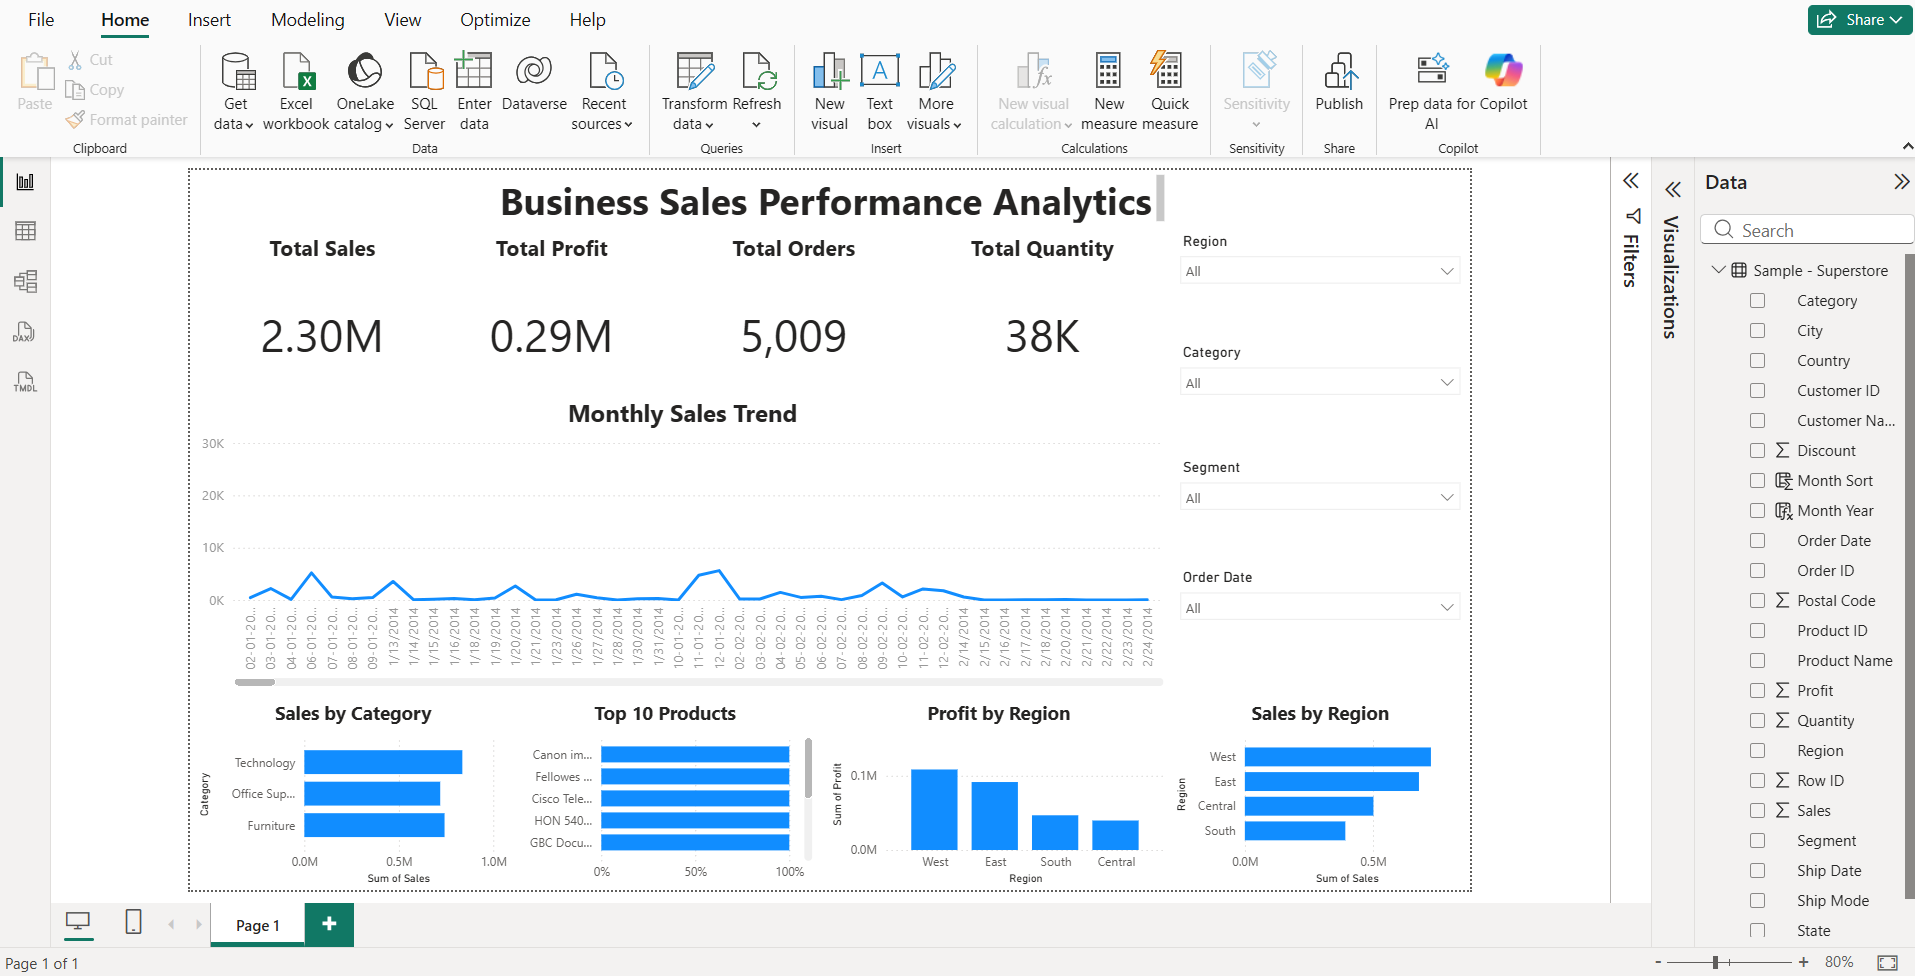

What the dashboard file says about the page in this screenshot:
{"tool":"powerbi","page":{"name":"Page 1","canvas":[1280,720],"ordinal":0},"visuals":[{"type":"card","title":"Total Sales","fields":{"Values":["Sum(Sample - Superstore.Sales)"]},"box":[3.8,62.5,257.5,172.5],"z":0},{"type":"card","title":"Total Orders","fields":{"Values":["Count(Sample - Superstore.Order ID)"]},"box":[475,62.5,257.5,172.5],"z":1000},{"type":"card","title":"Total Quantity","fields":{"Values":["Sum(Sample - Superstore.Quantity)"]},"box":[723.8,62.5,257.5,172.5],"z":2000},{"type":"card","title":"Total Profit","fields":{"Values":["Sum(Sample - Superstore.Profit)"]},"box":[232.5,62.5,258.8,172.5],"z":3000},{"type":"textbox","box":[300.5,0,679.2,57.6],"z":4000},{"type":"lineChart","title":"Monthly Sales Trend","fields":{"Category":["Sample - Superstore.Month Year"],"Y":["Sum(Sample - Superstore.Sales)"]},"box":[6.2,226.2,972.5,295],"z":5000},{"type":"clusteredBarChart","title":"Sales by Category","fields":{"Category":["Sample - Superstore.Category"],"Y":["Sum(Sample - Superstore.Sales)"]},"box":[3.8,530,318.8,190],"z":6000},{"type":"hundredPercentStackedBarChart","title":"Top 10 Products","fields":{"Category":["Sample - Superstore.Product Name"],"Y":["Sum(Sample - Superstore.Sales)"]},"box":[322.5,530,305,190],"z":7000},{"type":"clusteredColumnChart","title":"Profit by Region","fields":{"Category":["Sample - Superstore.Region"],"Y":["Sum(Sample - Superstore.Profit)"]},"box":[637.5,530,342.5,190],"z":8000},{"type":"slicer","fields":{"Values":["Sample - Superstore.Category"]},"box":[980,168.8,300,81.2],"z":9000},{"type":"slicer","fields":{"Values":["Sample - Superstore.Segment"]},"box":[980,283.8,300,110],"z":10000},{"type":"slicer","fields":{"Values":["Sample - Superstore.Order Date"]},"box":[980,393.8,300,110],"z":11000},{"type":"clusteredBarChart","title":"Sales by Region","fields":{"Category":["Sample - Superstore.Region"],"Y":["Sum(Sample - Superstore.Sales)"]},"box":[981,530,298,190],"z":12000},{"type":"slicer","fields":{"Values":["Sample - Superstore.Region"]},"box":[980,57.5,300,81.2],"z":13000}]}

Visuals, with their boxes on the page's 1280x720 design canvas (x1, y1, x2, y2). These are canvas units, not pixel positions in the 1915x976 screenshot, which may show the page scaled, cropped or inside an application window:
"Total Sales" card: 4, 62, 261, 235
"Total Orders" card: 475, 62, 732, 235
"Total Quantity" card: 724, 62, 981, 235
"Total Profit" card: 232, 62, 491, 235
textbox: 300, 0, 980, 58
"Monthly Sales Trend" lineChart: 6, 226, 979, 521
"Sales by Category" clusteredBarChart: 4, 530, 323, 720
"Top 10 Products" hundredPercentStackedBarChart: 322, 530, 628, 720
"Profit by Region" clusteredColumnChart: 638, 530, 980, 720
slicer - Sample - Superstore.Category: 980, 169, 1280, 250
slicer - Sample - Superstore.Segment: 980, 284, 1280, 394
slicer - Sample - Superstore.Order Date: 980, 394, 1280, 504
"Sales by Region" clusteredBarChart: 981, 530, 1279, 720
slicer - Sample - Superstore.Region: 980, 58, 1280, 139
